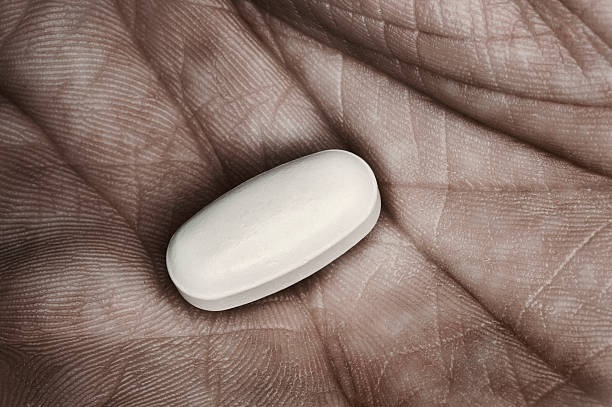pills: (158, 147, 381, 320)
